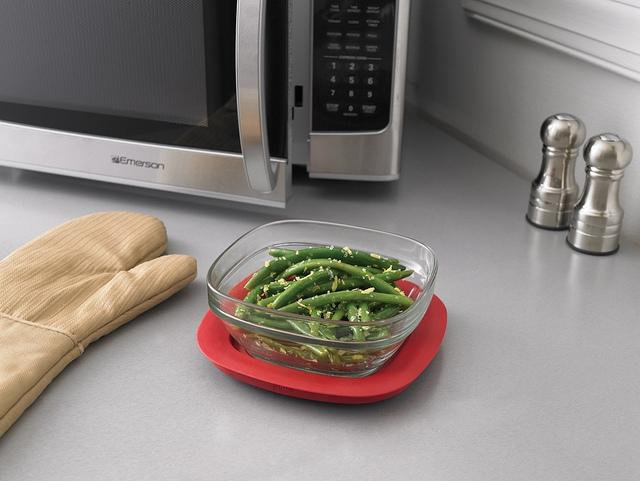green bean: (244, 247, 406, 290), (255, 270, 402, 308), (276, 258, 401, 295), (272, 269, 347, 309), (278, 292, 414, 312), (234, 272, 283, 320), (282, 319, 330, 340), (244, 315, 298, 331), (346, 300, 366, 342), (264, 280, 296, 298), (294, 342, 329, 358), (371, 304, 400, 322), (310, 307, 322, 336), (332, 300, 348, 320), (388, 270, 414, 282), (340, 354, 370, 364), (268, 248, 297, 258), (354, 266, 384, 274), (360, 301, 371, 322), (336, 326, 354, 338), (322, 304, 334, 320), (368, 301, 387, 311), (372, 288, 384, 292)
